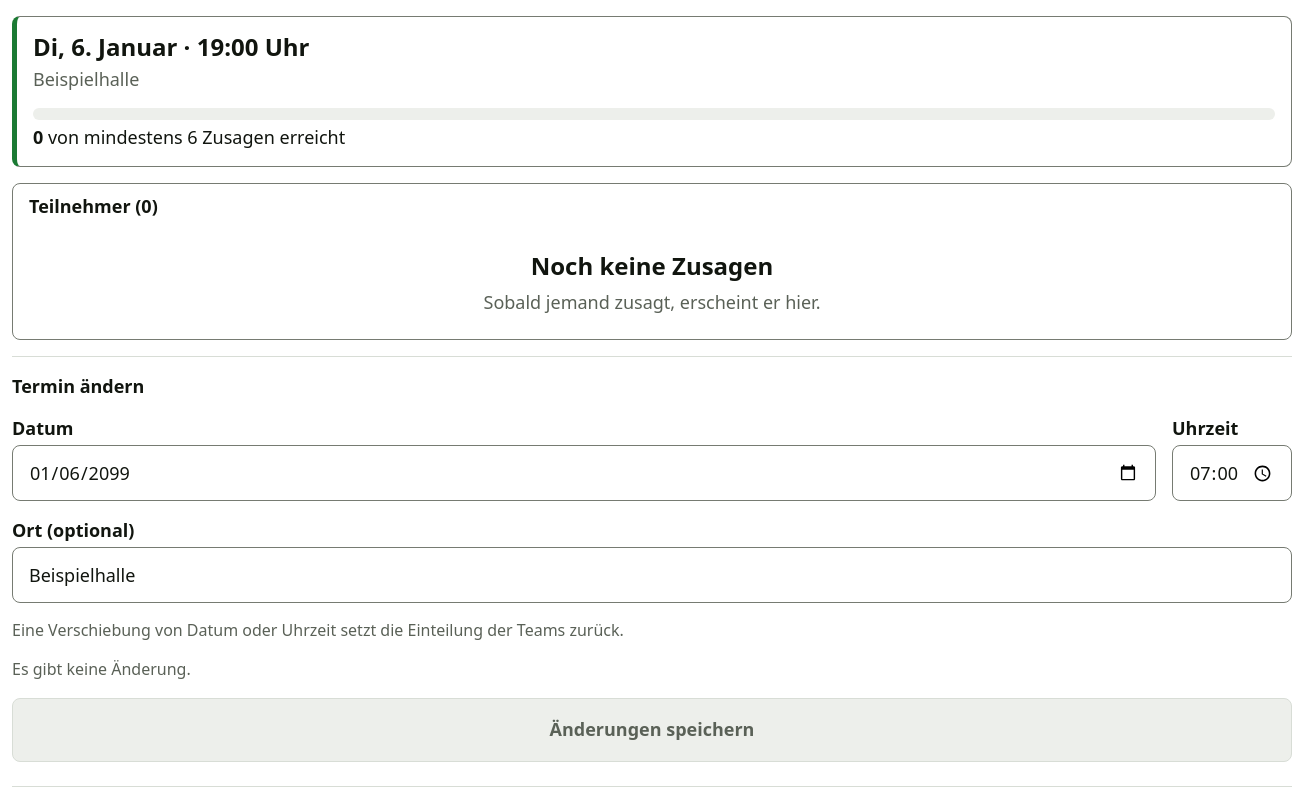
Scenario: AdminTerminDetail – Termin ändern › TERMIN_GESCHLOSSEN: Hinweis „nicht mehr geplant“, der Abschnitt verschwindet
Type "x" into the field with test id "termin-ort" at (652, 575), box [12, 547, 1292, 603]
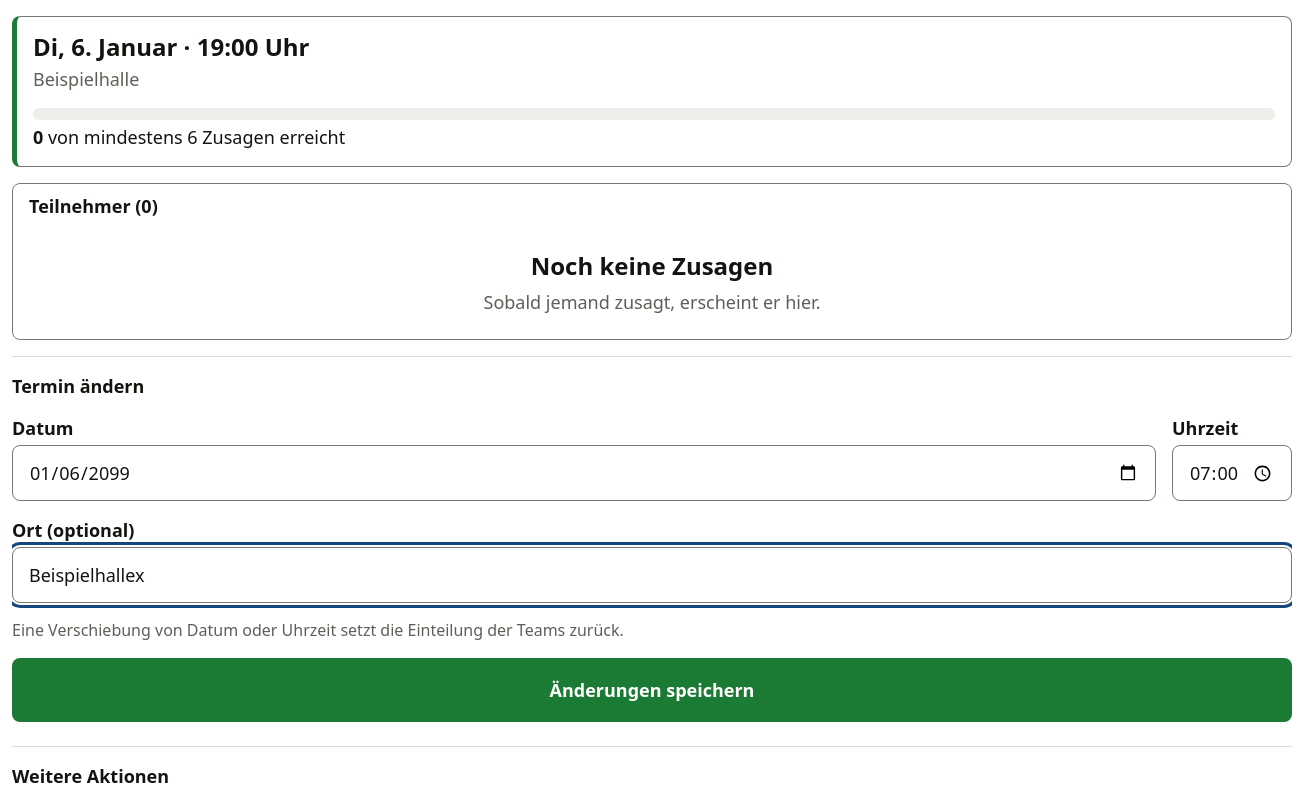
Click the button with test id "admin-termin-speichern" at (652, 690), box [12, 658, 1292, 722]
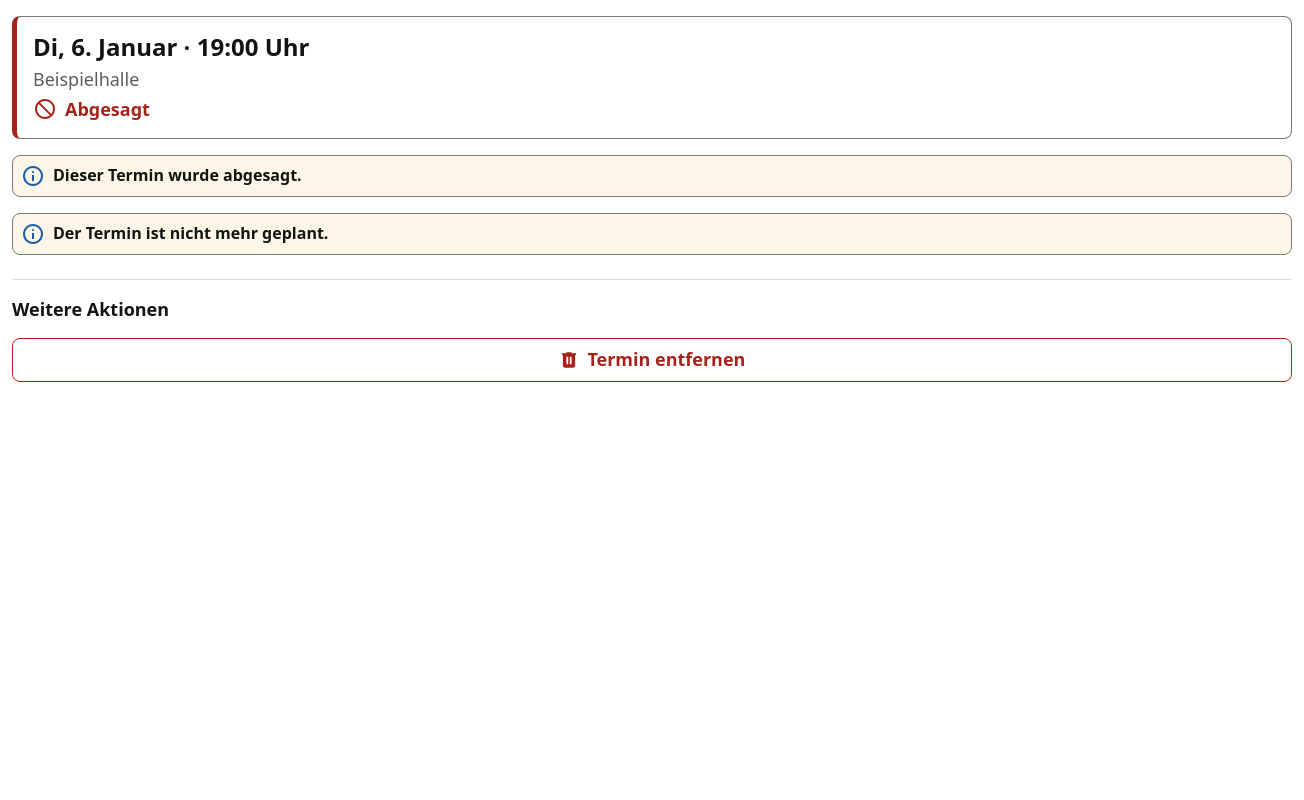
expect the message with test id "admin-termin-nicht-mehr-geplant" reads "Der Termin ist nicht mehr geplant.": met, box [53, 222, 328, 244]
expect the form with test id "admin-termin-aendern" is gone: met
expect the message "Dieser Termin wurde abgesagt." is shown: met, box [12, 155, 1292, 197]
